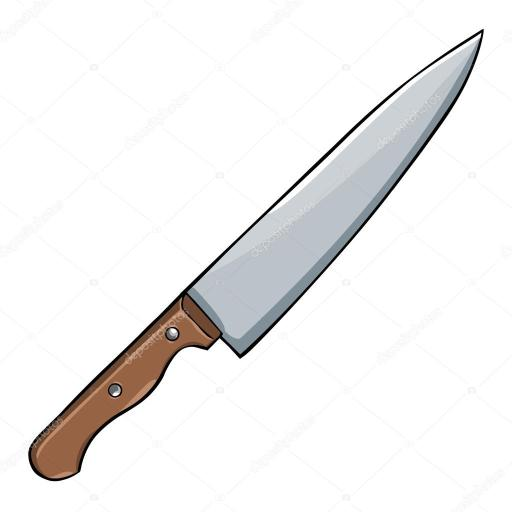knife: (19, 30, 502, 510)
